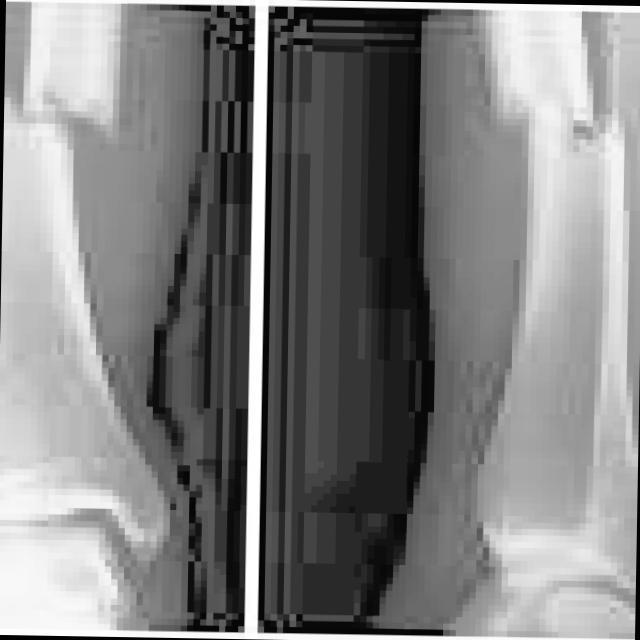Comminuted Fracture: (11, 69, 133, 162), (500, 94, 616, 154)
